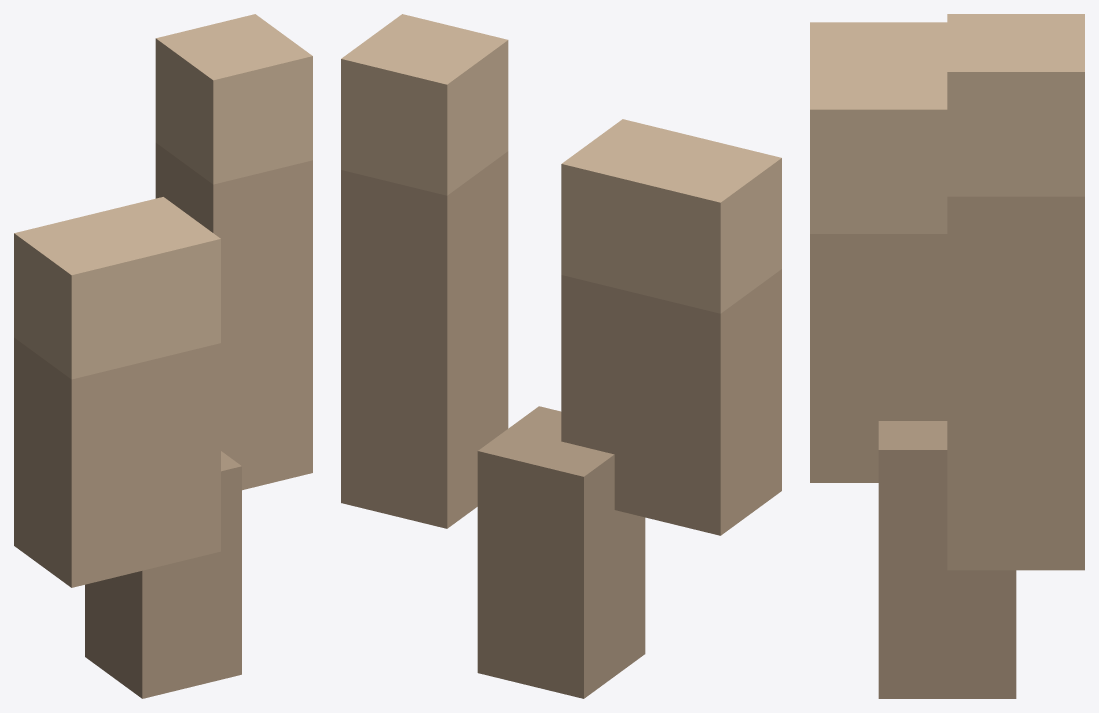
File: coral_cuerno_de_ciervo_01.glb
3 renders of one model, left to right at view 1: azimuth 30°, elevation 25°; view 2: azimuth 150°, elevation 25°; view 3: azimuth 270°, elevation 25°, orthographic. The views are drawn at different scales.
Parts seen in each view (by area): view 1: coral_cuerno_de_ciervo_01; view 2: coral_cuerno_de_ciervo_01; view 3: coral_cuerno_de_ciervo_01.
Boxes of the visible parts, bbox=[...] form: coral_cuerno_de_ciervo_01: bbox=[14, 14, 312, 698]; coral_cuerno_de_ciervo_01: bbox=[341, 14, 781, 698]; coral_cuerno_de_ciervo_01: bbox=[810, 14, 1084, 698].
Bounding box in the file's own units: 0.6 × 1.1 × 0.4.
